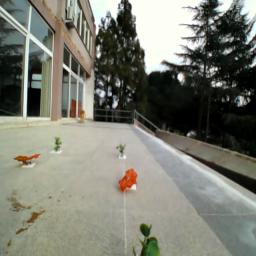herb: (134, 220, 160, 256), (117, 144, 129, 158), (54, 137, 64, 153)
wild: (119, 168, 139, 192), (14, 153, 43, 166)
